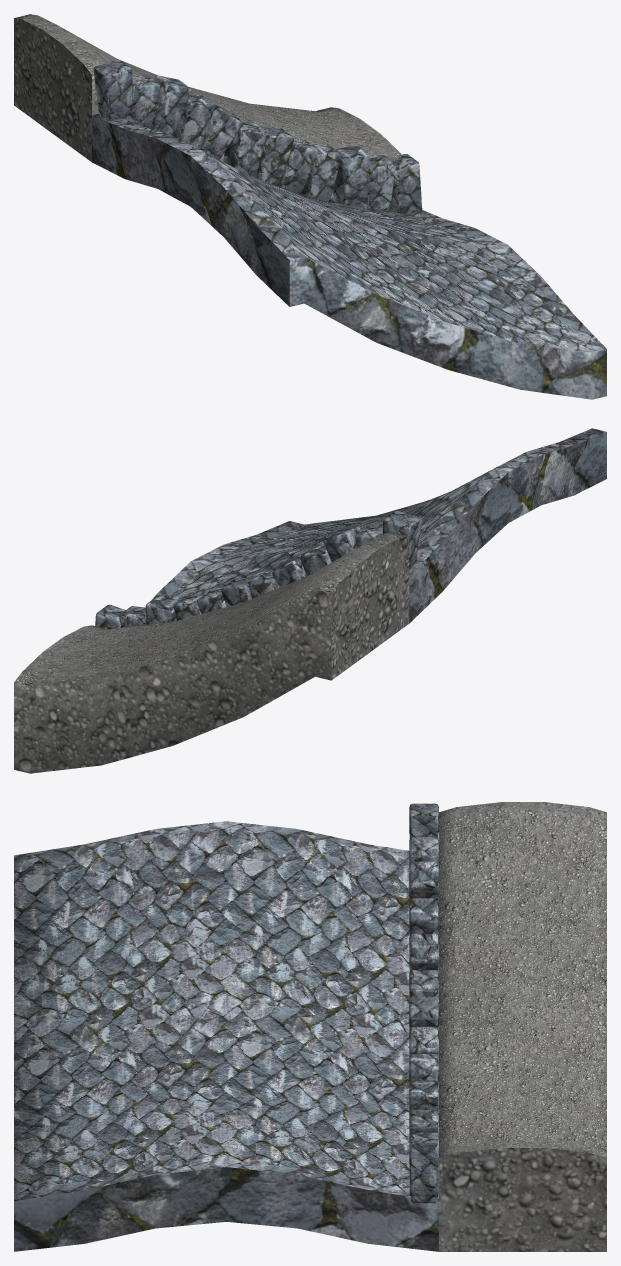
Rendered from StreetSlant_Down_4x2m.fbx.
3 views of the same model, one above another, from view 1: azimuth 30°, elevation 25°; view 2: azimuth 150°, elevation 25°; view 3: azimuth 270°, elevation 25° (orthographic). The views are drawn at different scales.
Parts seen in each view (by area): view 1: VictorianBiome.StreetSlantDown.4x2m; view 2: VictorianBiome.StreetSlantDown.4x2m; view 3: VictorianBiome.StreetSlantDown.4x2m.
Part boxes in pixels (left/top/right/bottom): VictorianBiome.StreetSlantDown.4x2m: left=14, top=14, right=606, bottom=399; VictorianBiome.StreetSlantDown.4x2m: left=14, top=428, right=606, bottom=773; VictorianBiome.StreetSlantDown.4x2m: left=14, top=802, right=606, bottom=1251.
Bounding box in the file's own units: 4 × 3.17 × 6.
